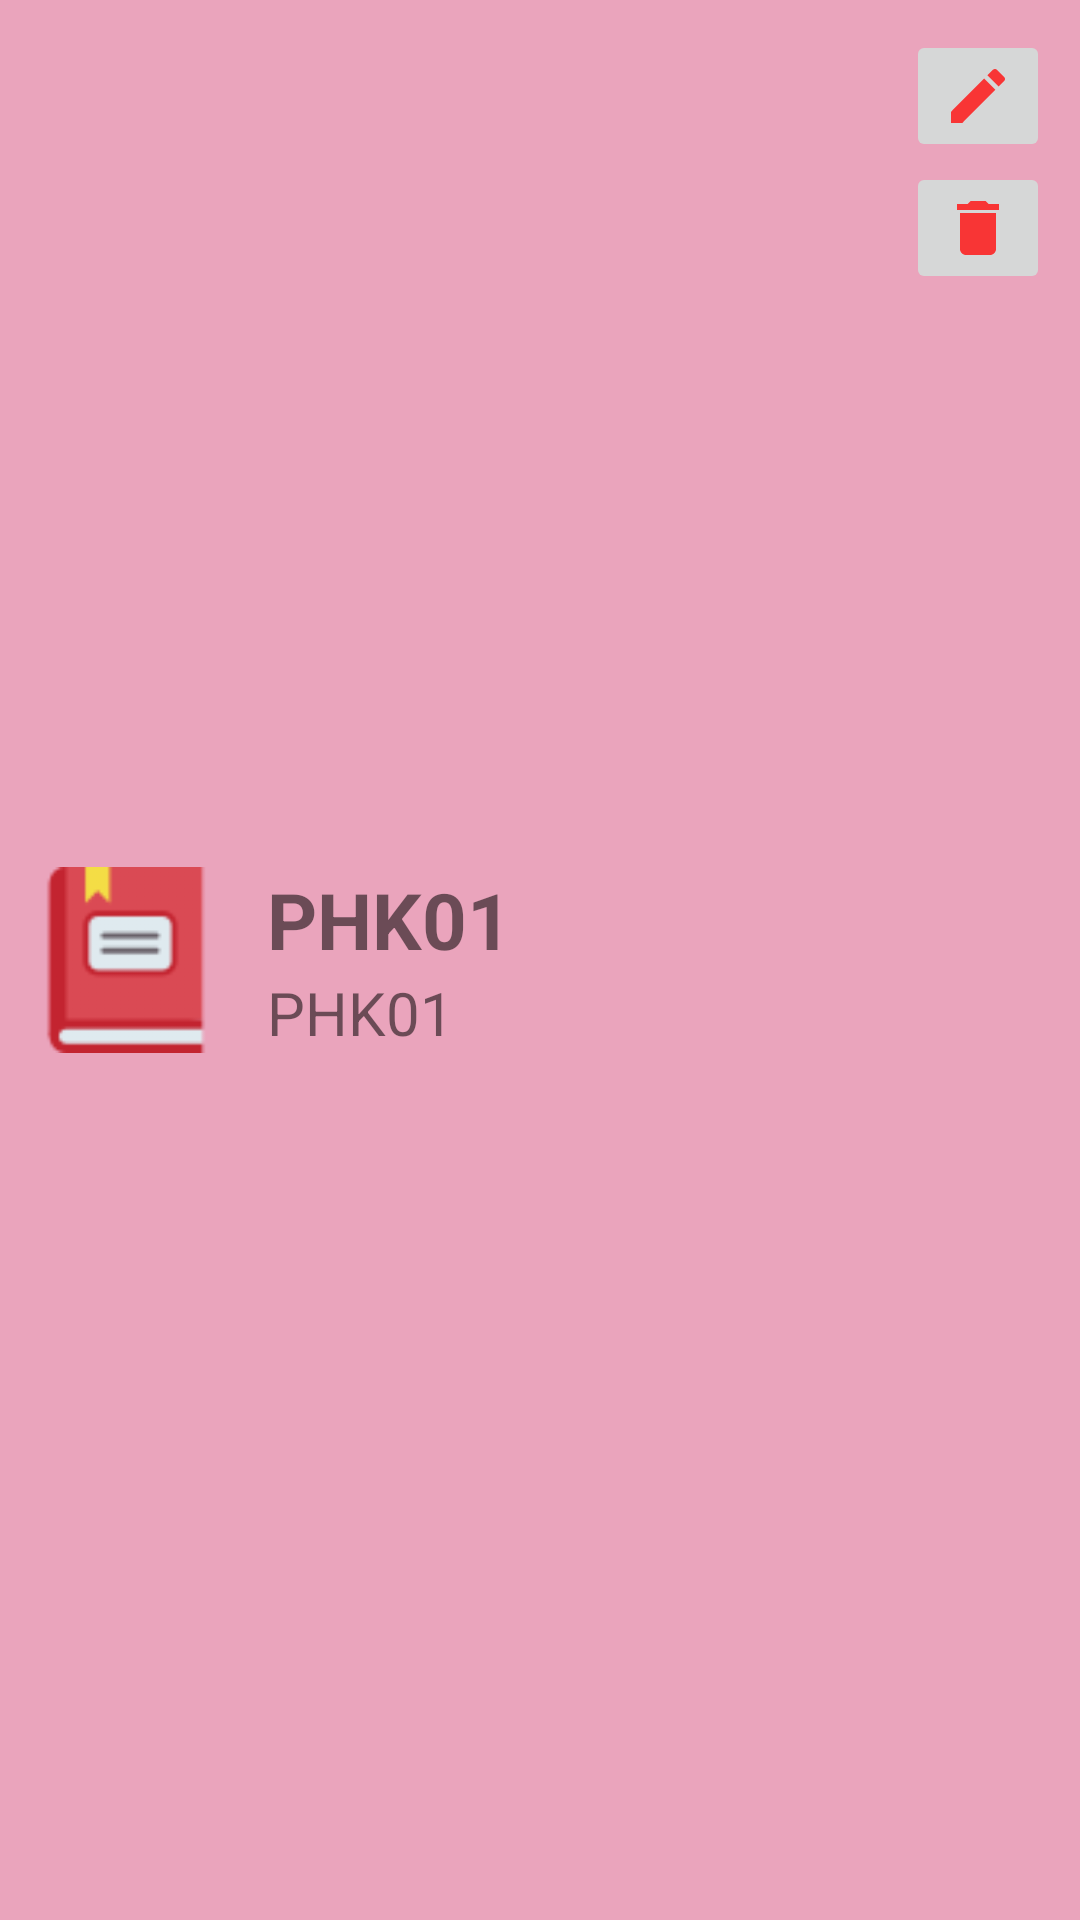

Icon click points for this 1080 × 1920 phone screenshot, format (x=x, y=y):
book: (x=125, y=960)
sua: (x=978, y=96)
xoa: (x=978, y=228)
